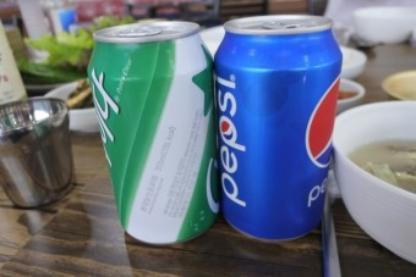Can: (86, 14, 212, 250), (215, 13, 341, 243)
